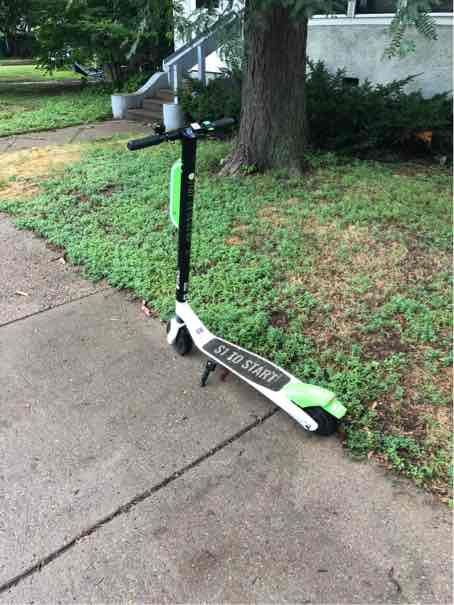scooter: (124, 114, 347, 447)
